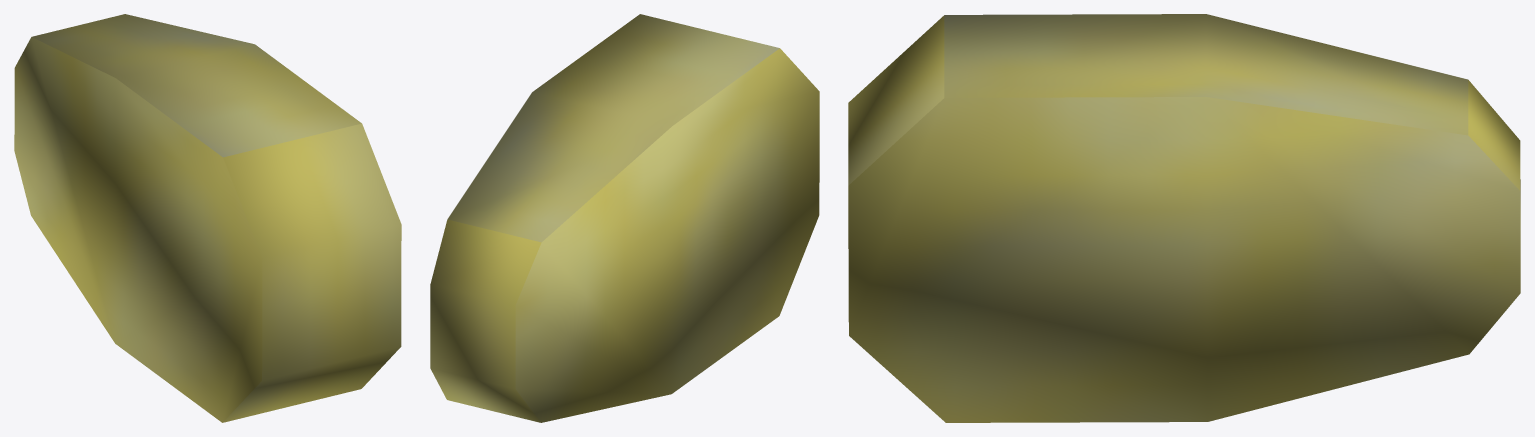
The model's file is Corn Seed.fbx.
3 views of the same model, side by side, from view 1: azimuth 30°, elevation 25°; view 2: azimuth 150°, elevation 25°; view 3: azimuth 270°, elevation 25° (orthographic). The views are drawn at different scales.
Visible parts, largest first — view 1: Cube; view 2: Cube; view 3: Cube.
Part boxes in pixels (box(x1,y1,x2,y2)): Cube: box(14, 14, 401, 422); Cube: box(430, 14, 819, 422); Cube: box(848, 14, 1520, 422).
Size of the model in its own units: 109 by 201 by 375.
